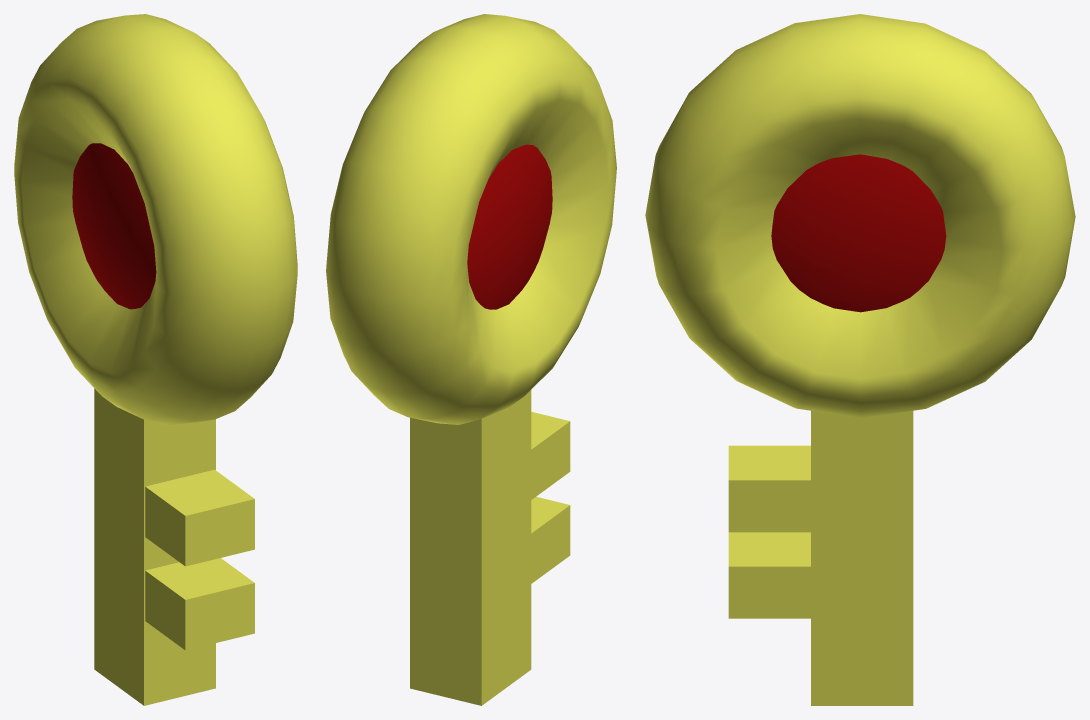
Rendered from Key.fbx.
3 renders of one model, left to right at view 1: azimuth 30°, elevation 25°; view 2: azimuth 150°, elevation 25°; view 3: azimuth 270°, elevation 25°, orthographic. The views are drawn at different scales.
Visible parts, largest first — view 1: polySurface12; view 2: polySurface12; view 3: polySurface12.
Boxes of the visible parts, x1=… form: polySurface12: x1=14, y1=14, x2=297, y2=705; polySurface12: x1=326, y1=14, x2=616, y2=705; polySurface12: x1=645, y1=14, x2=1075, y2=705.
Size of the model in its own units: 0.1907 by 0.8728 by 0.5102.
